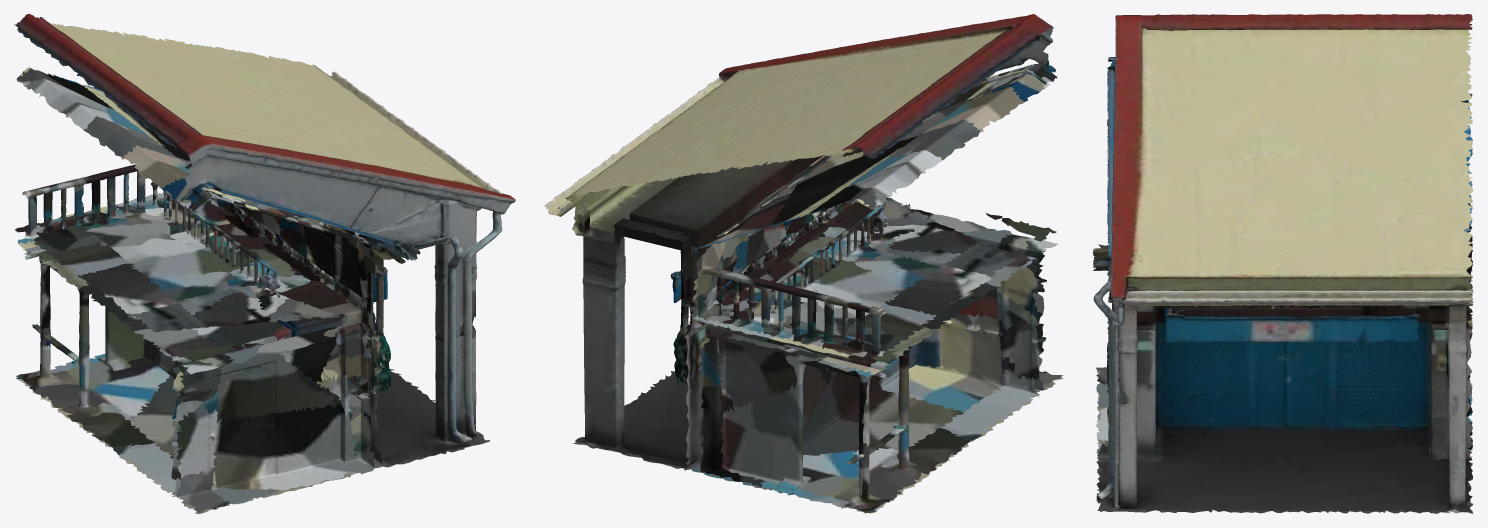
3 views of the same model, side by side, from view 1: azimuth 30°, elevation 25°; view 2: azimuth 150°, elevation 25°; view 3: azimuth 270°, elevation 25° (orthographic).
Parts seen in each view (by area): view 1: Meshy_AI_Warehouse_Facade_0106045256_texture; view 2: Meshy_AI_Warehouse_Facade_0106045256_texture; view 3: Meshy_AI_Warehouse_Facade_0106045256_texture.
Part boxes in pixels (left/top/right/bottom): Meshy_AI_Warehouse_Facade_0106045256_texture: left=14, top=14, right=515, bottom=513; Meshy_AI_Warehouse_Facade_0106045256_texture: left=544, top=14, right=1062, bottom=513; Meshy_AI_Warehouse_Facade_0106045256_texture: left=1093, top=14, right=1473, bottom=513.
Size of the model in its own units: 1.08 by 1.14 by 1.08.
Materials: 1 (1 with a texture image).
